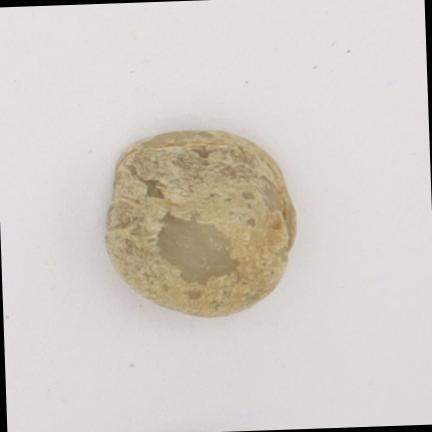immature: (107, 131, 295, 316)
